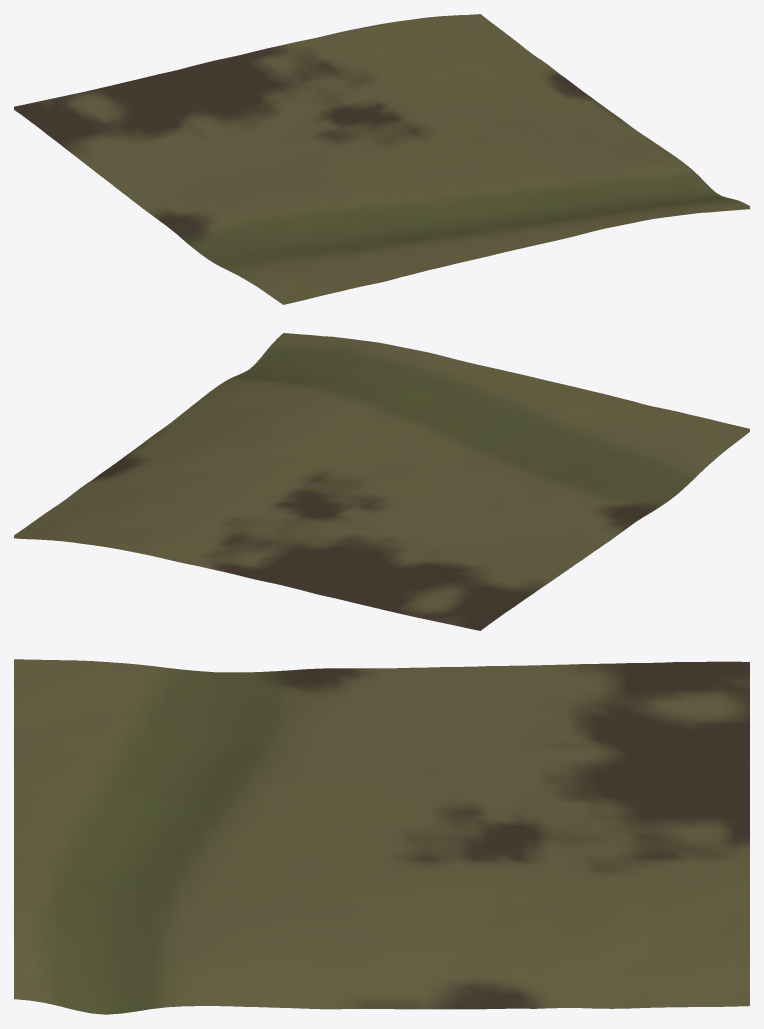
The model's file is land_m_05_05.glb.
3 views of the same model, one above another, from view 1: azimuth 30°, elevation 25°; view 2: azimuth 150°, elevation 25°; view 3: azimuth 270°, elevation 25° (orthographic). The views are drawn at different scales.
Visible parts, largest first — view 1: land_m_05_05; view 2: land_m_05_05; view 3: land_m_05_05.
Boxes of the visible parts, x1,y1,x2,y2 form: land_m_05_05: (14, 14, 749, 304); land_m_05_05: (14, 333, 749, 630); land_m_05_05: (14, 659, 749, 1014).
Size of the model in its own units: 960 by 63.92 by 960.
